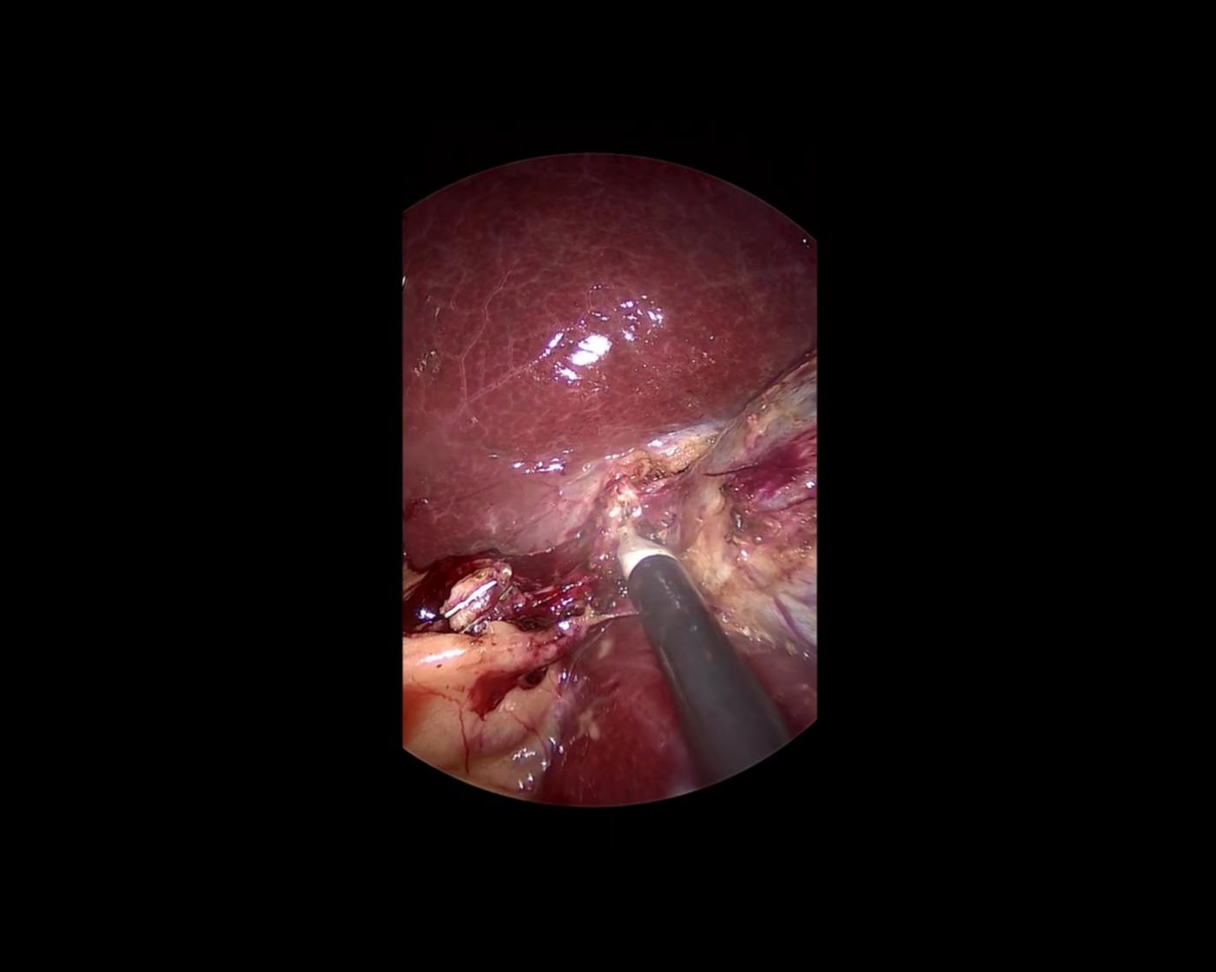Cautery: (547, 489, 793, 791)
Gallbladder: (678, 354, 814, 664)
Liver: (402, 158, 813, 571), (538, 608, 822, 825)
